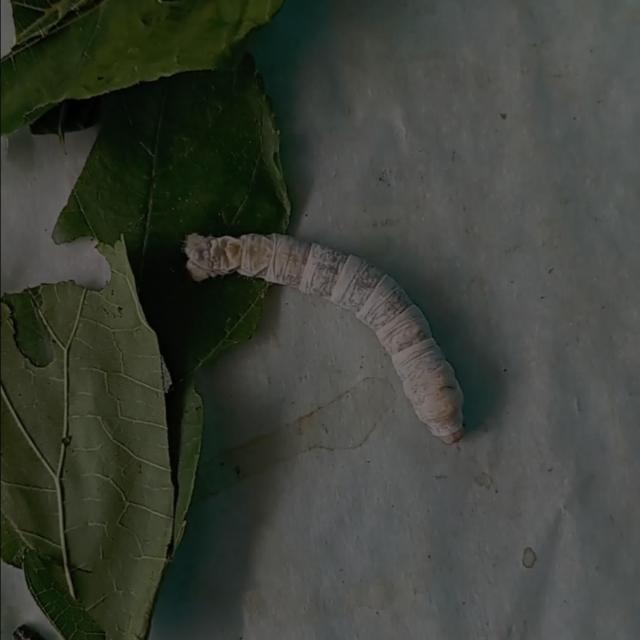Grasserie: (165, 194, 516, 472)
